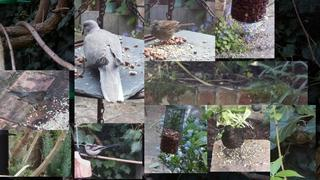blackbird: (221, 125, 250, 162), (8, 90, 49, 113)
collared dove: (82, 20, 124, 103)
dunnock: (150, 20, 195, 46)
long tailed tit: (84, 143, 122, 158)
